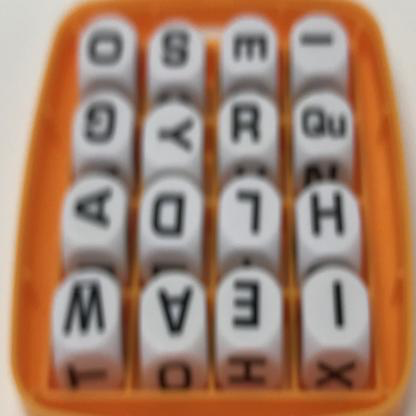Q: (294, 91, 354, 161)
a: (67, 174, 121, 247), (150, 278, 201, 348)
d: (143, 173, 197, 259)
e: (218, 269, 280, 342), (225, 12, 279, 77)
g: (74, 92, 132, 160)
h: (303, 188, 358, 248)
i: (310, 269, 369, 344), (292, 14, 352, 72)
l: (221, 177, 284, 251)
o: (76, 15, 134, 83)
r: (219, 92, 281, 162)
s: (153, 22, 206, 81)
w: (54, 274, 113, 350)
y: (147, 105, 203, 169)
